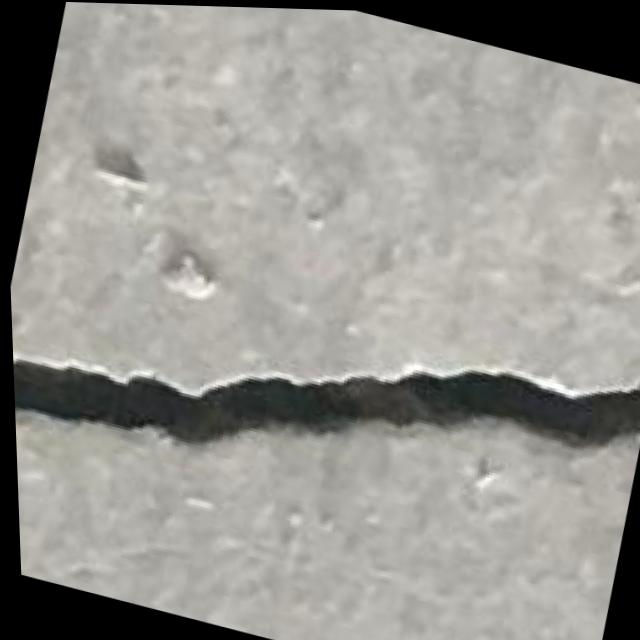Crack: (6, 192, 640, 611)
